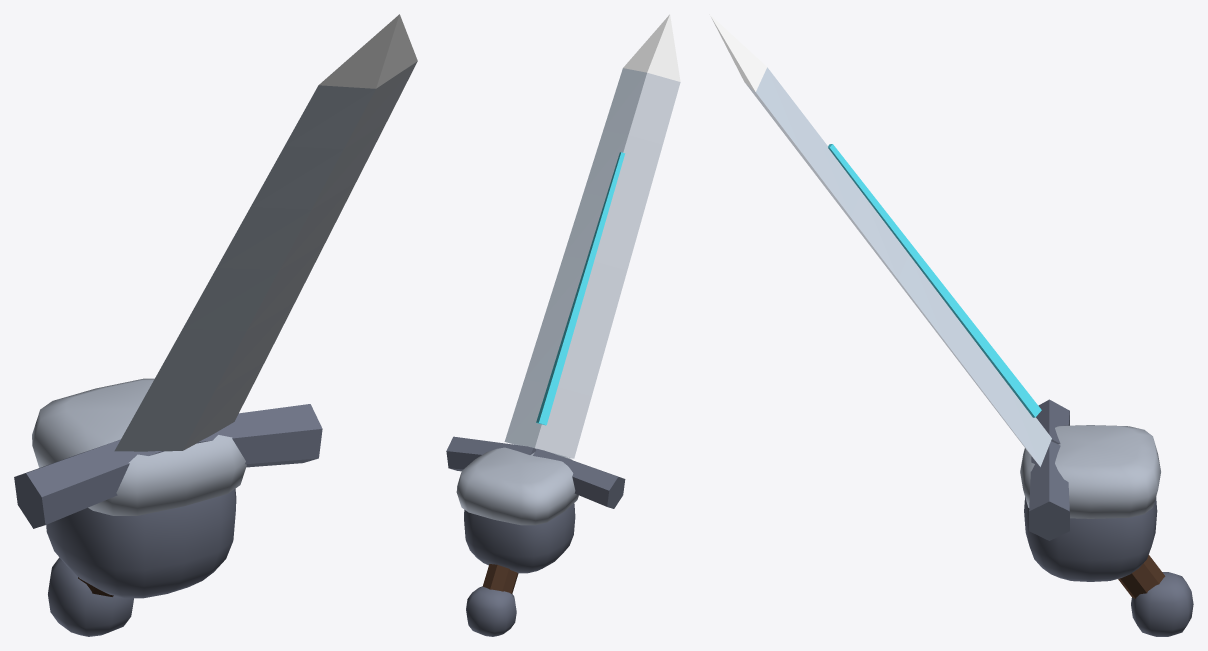
The model's file is knight_hand_weapon.obj.
The picture shows the model from 3 angles, left to right: view 1: azimuth 30°, elevation 25°; view 2: azimuth 150°, elevation 25°; view 3: azimuth 270°, elevation 25°; orthographic projection. The views are drawn at different scales.
Visible parts, largest first — view 1: player_hand_sword; view 2: player_hand_sword; view 3: player_hand_sword.
Part boxes in pixels (<box>): player_hand_sword: <box>14,14,417,636</box>; player_hand_sword: <box>446,14,680,636</box>; player_hand_sword: <box>709,14,1193,636</box>.
Bounding box in the file's own units: 0.3079 × 0.871 × 0.6176.
1 material, 1 textured.
